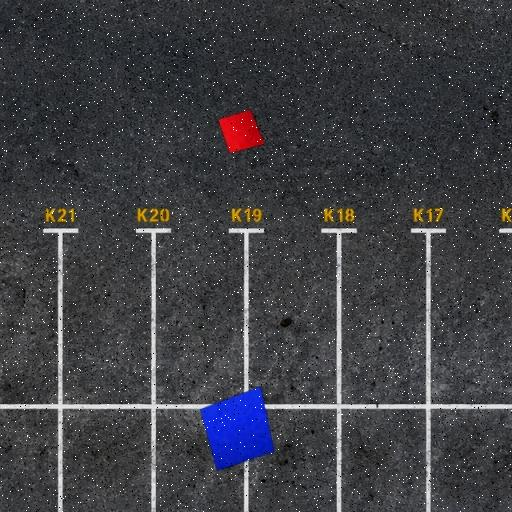BLUE_SQUARE: (199, 386, 275, 471)
RED_SQUARE: (218, 109, 266, 154)
